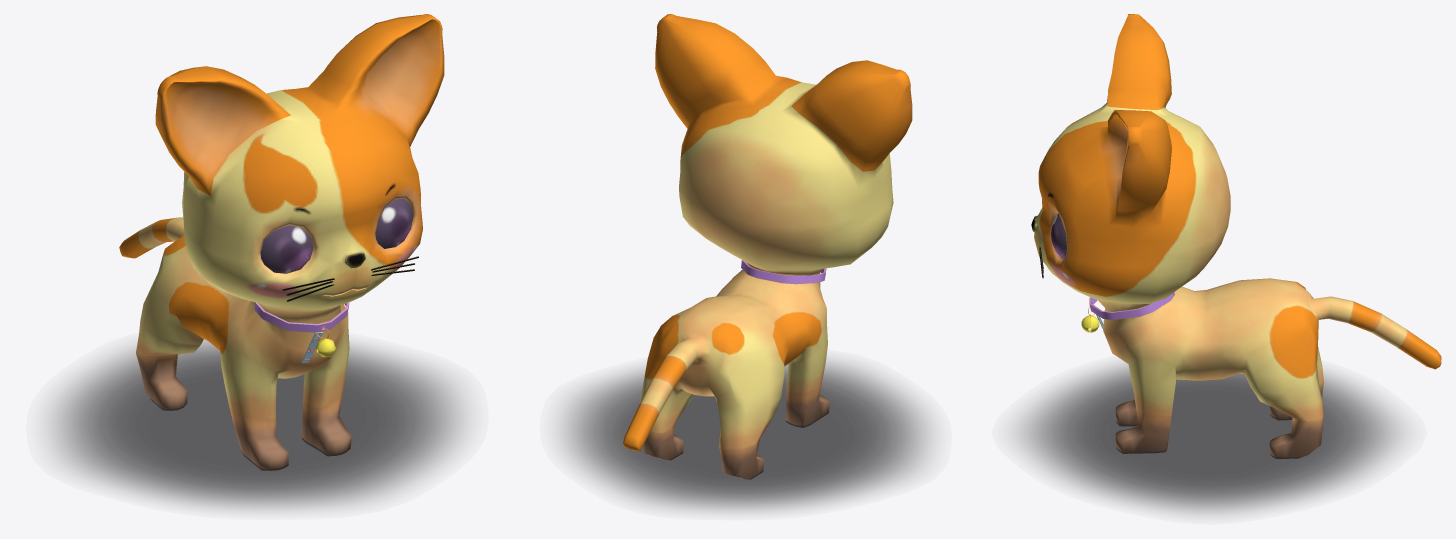
Rendered from creature_cat.glb.
The picture shows the model from 3 angles, left to right: view 1: azimuth 30°, elevation 25°; view 2: azimuth 150°, elevation 25°; view 3: azimuth 270°, elevation 25°; orthographic projection. The views are drawn at different scales.
Visible parts, largest first — view 1: cat, plane_shadow; view 2: cat, plane_shadow; view 3: cat, plane_shadow.
Part boxes in pixels (left/top/right/bottom): cat: left=119, top=14, right=444, bottom=470; plane_shadow: left=48, top=340, right=466, bottom=510; cat: left=623, top=14, right=912, bottom=479; plane_shadow: left=560, top=359, right=931, bottom=511; cat: left=1031, top=14, right=1441, bottom=458; plane_shadow: left=1015, top=363, right=1403, bottom=514.
Size of the model in its own units: 260 by 240 by 269.
Materials: 2 (2 with a texture image).
